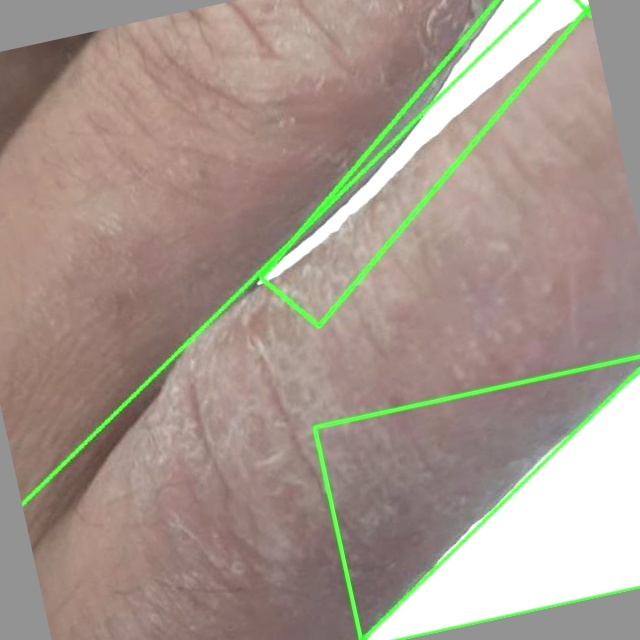Contact Dermatitis: (35, 0, 639, 639), (262, 0, 591, 327), (314, 356, 639, 639)
